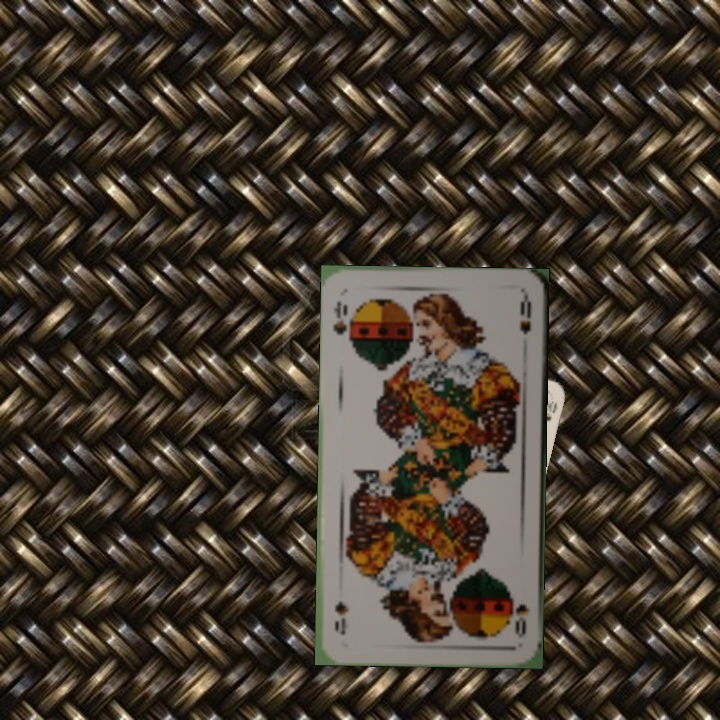SO: (329, 297, 354, 344), (508, 594, 532, 641)
